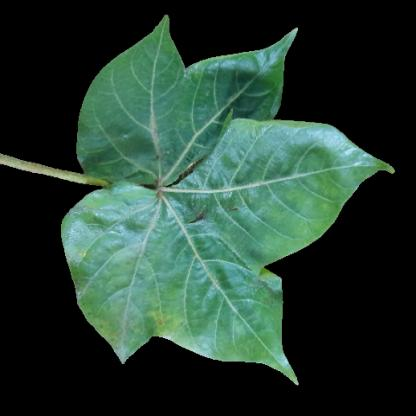curl_stage1: (277, 185, 332, 231), (150, 307, 185, 341)
healthy: (112, 95, 256, 293), (256, 126, 349, 185), (206, 295, 280, 360), (129, 53, 187, 92)
